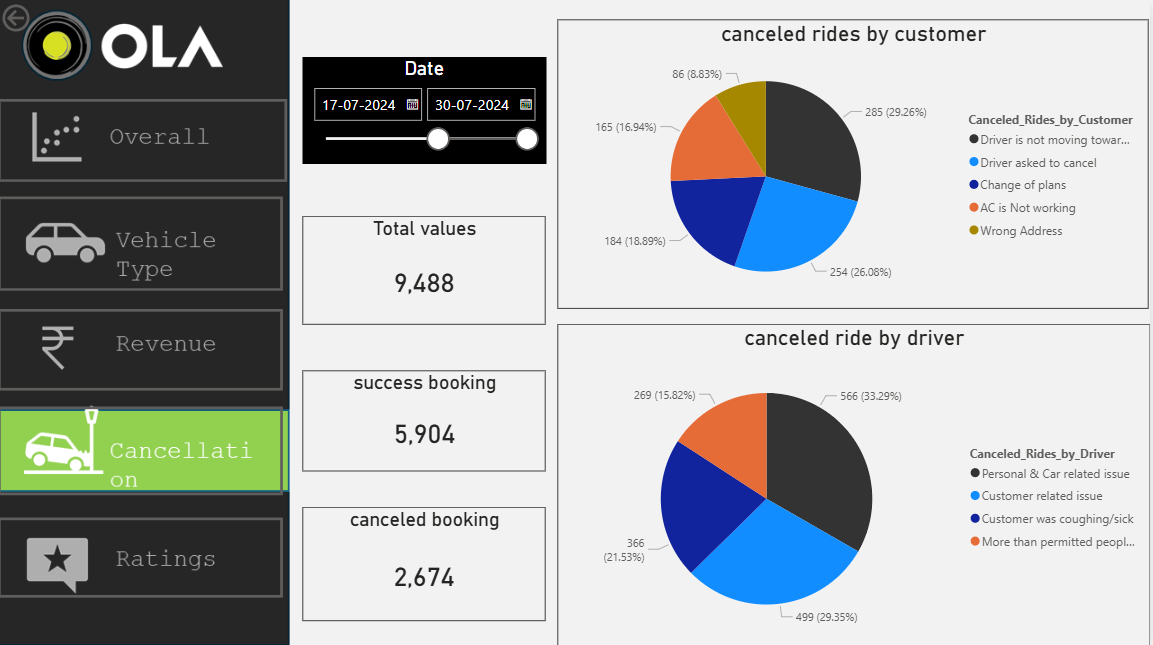

This screenshot's page, from the dashboard's own definition file:
{"tool":"powerbi","page":{"name":"cancellation ","canvas":[1280,720],"ordinal":3},"visuals":[{"type":"actionButton","box":[0,217.9,316.5,105],"z":0},{"type":"actionButton","box":[0,343.6,316.5,90.7],"z":1000},{"type":"actionButton","box":[0,451.7,316.5,98.6],"z":2000},{"type":"pieChart","title":"canceled  rides by customer","fields":{"Category":["July.Canceled_Rides_by_Customer"],"Y":["CountNonNull(July.Canceled_Rides_by_Customer)"]},"box":[621.9,22.3,656.9,321.3],"z":3000},{"type":"pieChart","title":"canceled ride by driver","fields":{"Category":["July.Canceled_Rides_by_Driver"],"Y":["CountNonNull(July.Canceled_Rides_by_Driver)"]},"box":[621.9,359.5,658.5,361.1],"z":4000},{"type":"slicer","title":"Date","fields":{"Values":["July.Date"]},"box":[338.6,63.5,270.2,118.8],"z":5000},{"type":"card","title":"Total values","fields":{"Values":["CountNonNull(July.Booking_ID)"]},"box":[338.6,239.3,270.2,120.5],"z":6000},{"type":"card","title":"success booking","fields":{"Values":["CountNonNull(July.Booking_ID)"]},"box":[338.6,411.8,270.2,112.3],"z":7000},{"type":"card","title":"canceled booking","fields":{"Values":["CountNonNull(July.Booking_ID)"]},"box":[338.6,563.2,270.2,127],"z":8000},{"type":"actionButton","box":[0,0,100,40],"z":9000},{"type":"actionButton","box":[0,575.8,316.5,89.1],"z":10000},{"type":"actionButton","box":[0,109.8,321.3,92.3],"z":11000}]}

Visuals, with their boxes on the page's 1280x720 design canvas (x1, y1, x2, y2). These are canvas units, not pixel positions in the 1153x645 screenshot, which may show the page scaled, cropped or inside an application window:
actionButton: {"left": 0, "top": 218, "right": 316, "bottom": 323}
actionButton: {"left": 0, "top": 344, "right": 316, "bottom": 434}
actionButton: {"left": 0, "top": 452, "right": 316, "bottom": 550}
"canceled  rides by customer" pieChart: {"left": 622, "top": 22, "right": 1279, "bottom": 344}
"canceled ride by driver" pieChart: {"left": 622, "top": 360, "right": 1280, "bottom": 721}
"Date" slicer: {"left": 339, "top": 64, "right": 609, "bottom": 182}
"Total values" card: {"left": 339, "top": 239, "right": 609, "bottom": 360}
"success booking" card: {"left": 339, "top": 412, "right": 609, "bottom": 524}
"canceled booking" card: {"left": 339, "top": 563, "right": 609, "bottom": 690}
actionButton: {"left": 0, "top": 0, "right": 100, "bottom": 40}
actionButton: {"left": 0, "top": 576, "right": 316, "bottom": 665}
actionButton: {"left": 0, "top": 110, "right": 321, "bottom": 202}
